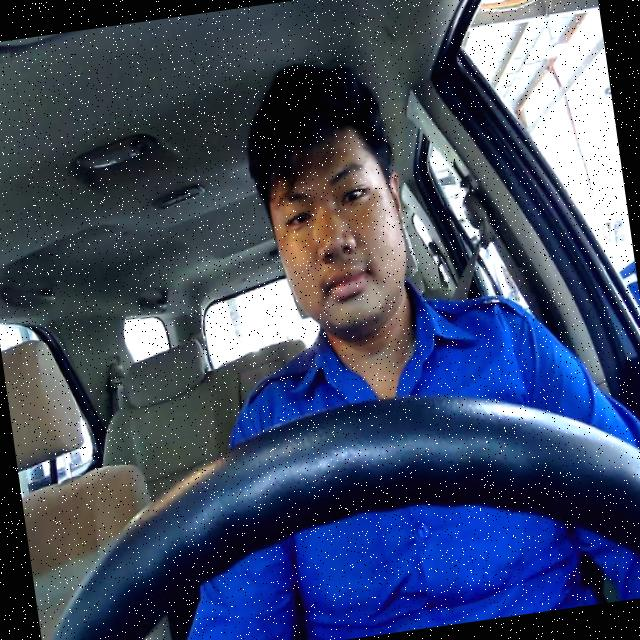focused: (258, 124, 418, 339)
